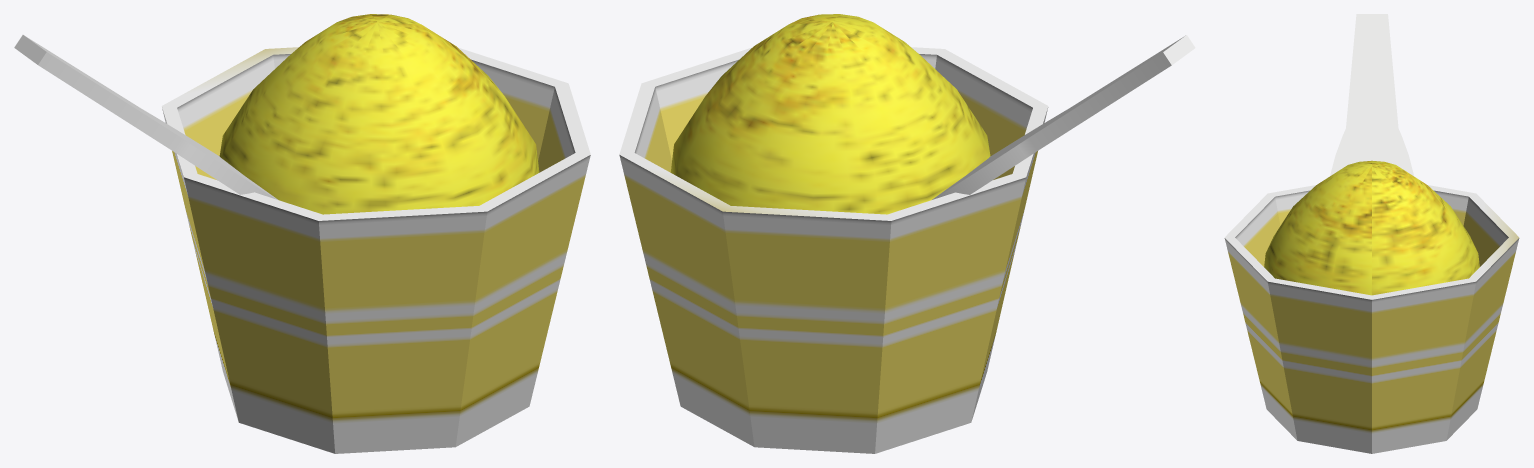
Rendered from IceCream_CupH.fbx.
The picture shows the model from 3 angles, left to right: view 1: azimuth 30°, elevation 25°; view 2: azimuth 150°, elevation 25°; view 3: azimuth 270°, elevation 25°; orthographic projection. The views are drawn at different scales.
Parts seen in each view (by area): view 1: IceCupH, IceCream_CupH, IceCreamSpoonH; view 2: IceCupH, IceCream_CupH, IceCreamSpoonH; view 3: IceCupH, IceCream_CupH, IceCreamSpoonH.
Boxes of the visible parts, left/top/right/bottom form: IceCupH: left=161, top=47, right=590, bottom=453; IceCream_CupH: left=219, top=14, right=539, bottom=214; IceCreamSpoonH: left=14, top=35, right=277, bottom=199; IceCupH: left=619, top=47, right=1048, bottom=453; IceCream_CupH: left=670, top=14, right=990, bottom=214; IceCreamSpoonH: left=932, top=35, right=1195, bottom=199; IceCupH: left=1224, top=185, right=1519, bottom=453; IceCream_CupH: left=1264, top=160, right=1479, bottom=295; IceCreamSpoonH: left=1330, top=14, right=1414, bottom=176.
Bounding box in the file's own units: 163 × 123 × 115.
